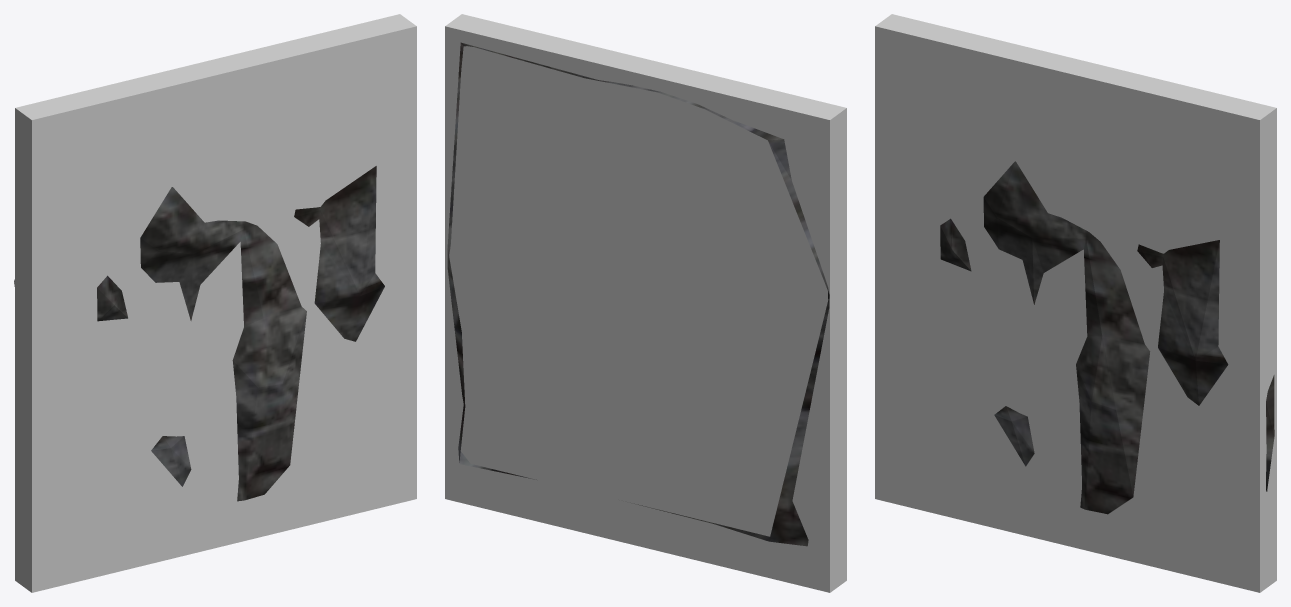
File: Cave Wall 1.fbx
3 renders of one model, left to right at view 1: azimuth 30°, elevation 25°; view 2: azimuth 150°, elevation 25°; view 3: azimuth 330°, elevation 25°, orthographic.
Visible parts, largest first — view 1: Cube.003, Cave Wall 1; view 2: Cube.003, Cave Wall 1; view 3: Cube.003, Cave Wall 1.
Part boxes in pixels (x1,y1,x2,y2): Cube.003: (15,14,416,592); Cave Wall 1: (14,166,384,501); Cube.003: (445,14,846,592); Cave Wall 1: (447,42,829,546); Cube.003: (875,14,1276,592); Cave Wall 1: (940,161,1274,514).
Size of the model in its own units: 1102 by 1272 by 136.
Materials: 1 (1 with a texture image).
